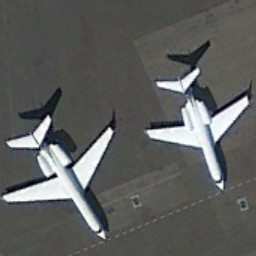Airplane: (1, 107, 123, 248), (140, 64, 256, 206)
